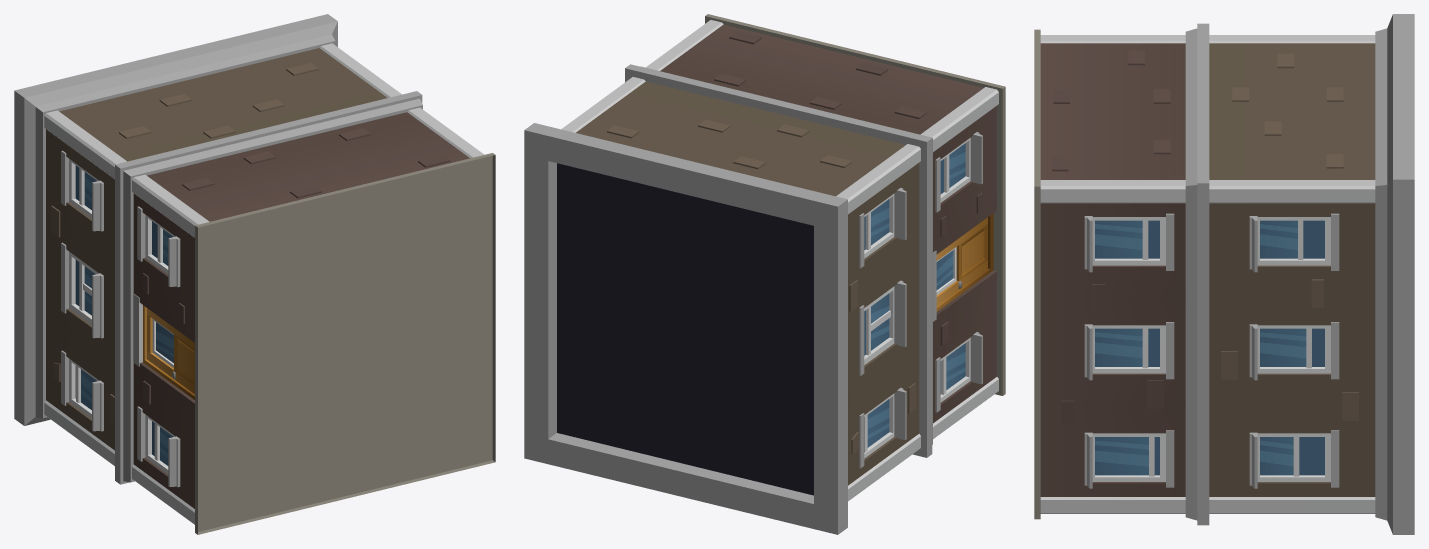
File: Building_2_3_G.glb
3 views of the same model, side by side, from view 1: azimuth 30°, elevation 25°; view 2: azimuth 150°, elevation 25°; view 3: azimuth 270°, elevation 25° (orthographic). The views are drawn at different scales.
Parts seen in each view (by area): view 1: Building_2_3_G; view 2: Building_2_3_G; view 3: Building_2_3_G.
Boxes of the visible parts, left/top/right/bottom form: Building_2_3_G: left=14, top=14, right=495, bottom=534; Building_2_3_G: left=524, top=14, right=1005, bottom=534; Building_2_3_G: left=1034, top=14, right=1414, bottom=534.
Bounding box in the file's own units: 6.2 × 6.2 × 6.02.
3 materials, 3 textured.
